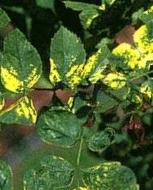Tomato leaf mosaic virus: (26, 22, 96, 92), (0, 23, 52, 97), (29, 98, 90, 159), (76, 144, 135, 190), (34, 143, 84, 190), (81, 120, 121, 158), (133, 69, 153, 122)
